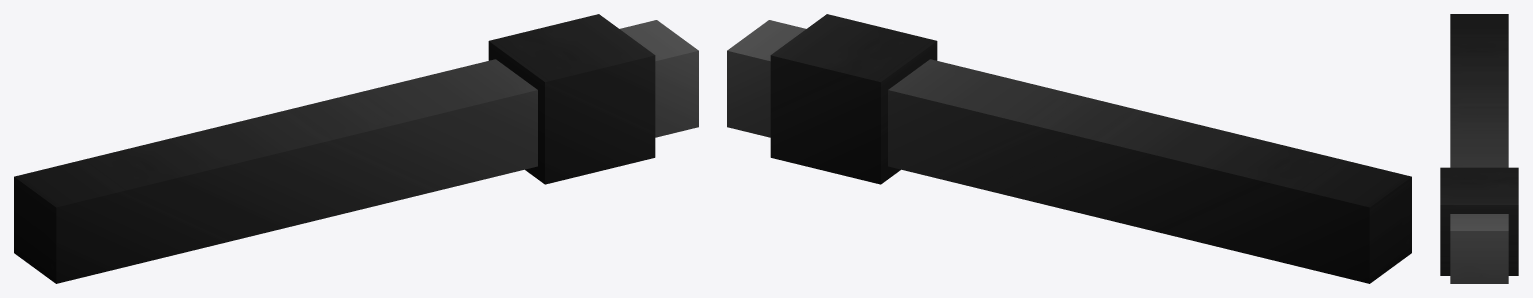
File: train_half_heavy_gun_gunthingy_placeholder_v002.fbx
The picture shows the model from 3 angles, left to right: view 1: azimuth 30°, elevation 25°; view 2: azimuth 150°, elevation 25°; view 3: azimuth 270°, elevation 25°; orthographic projection. The views are drawn at different scales.
Parts seen in each view (by area): view 1: heavy weapon pewpew.002; view 2: heavy weapon pewpew.002; view 3: heavy weapon pewpew.002.
Boxes of the visible parts, x1,y1,x2,y2 form: heavy weapon pewpew.002: (14, 14, 698, 283); heavy weapon pewpew.002: (727, 14, 1411, 283); heavy weapon pewpew.002: (1440, 14, 1518, 283).
Bounding box in the file's own units: 54.72 × 54.72 × 360.
